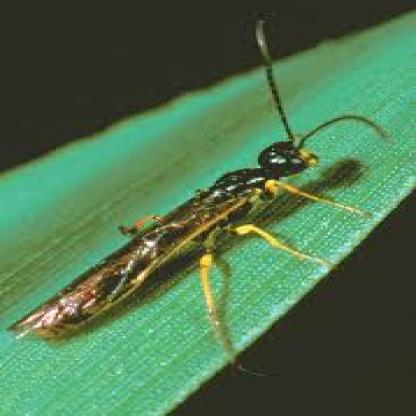sawfly: (5, 21, 406, 374)
